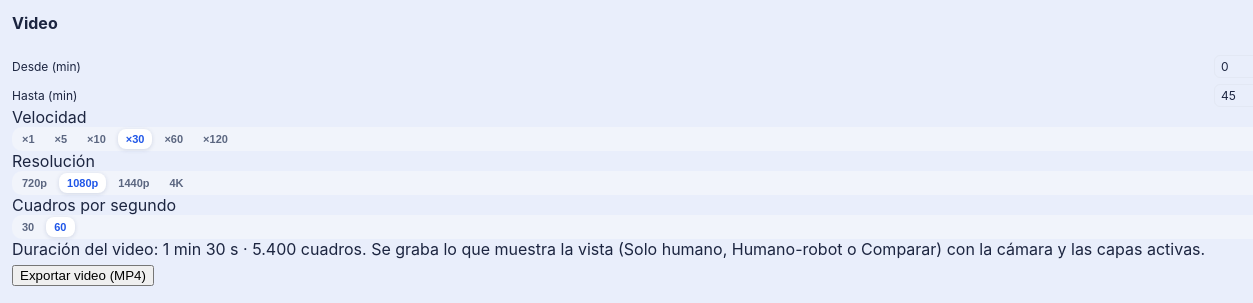
it: VideoPanel › calcula duración y cuadros desde el rango, la velocidad y los fps
Expected: the text "1 min 30 s · 5.400 cuadros" is shown, [12,238,367,258]
Click the button "30": (28, 226) [14,216,42,236]
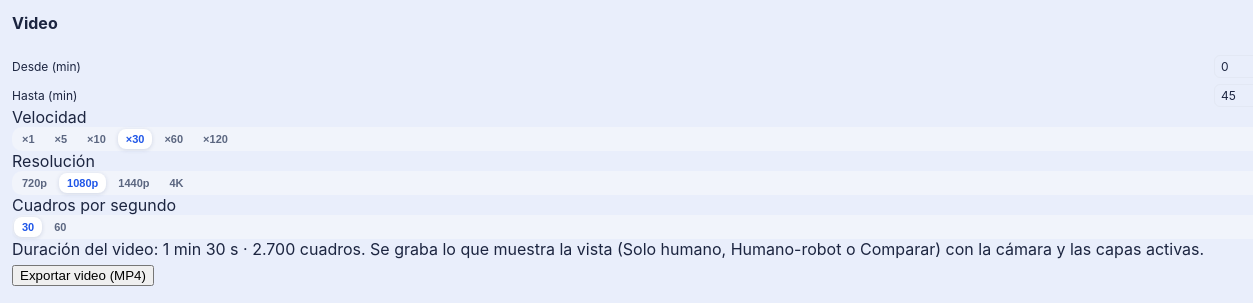
Expected: the button with test id "video-export" is enabled, [12,264,154,286]
Now the text "2.700 cuadros" is shown, box [12,238,366,258]
